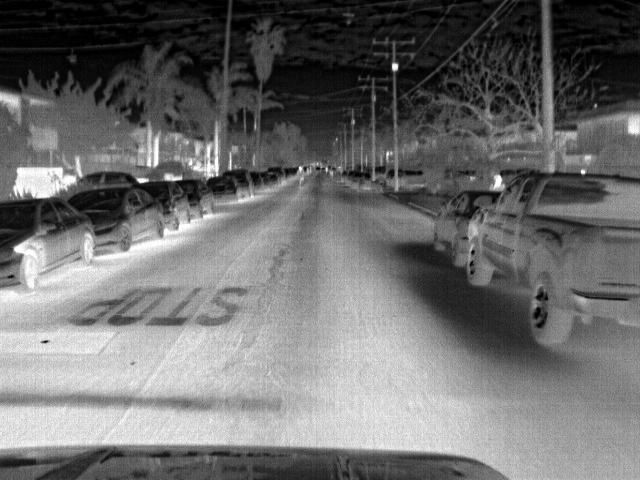car: (465, 172, 639, 347), (0, 197, 96, 291), (65, 188, 166, 259), (430, 191, 499, 268), (138, 181, 193, 231), (59, 170, 138, 198), (177, 181, 216, 217), (202, 177, 241, 203), (219, 169, 256, 196), (267, 164, 286, 183), (350, 171, 365, 190), (250, 170, 264, 188), (342, 170, 357, 186), (259, 172, 271, 190), (383, 170, 395, 188), (269, 174, 278, 186)
person: (488, 175, 504, 194), (294, 164, 306, 187)
